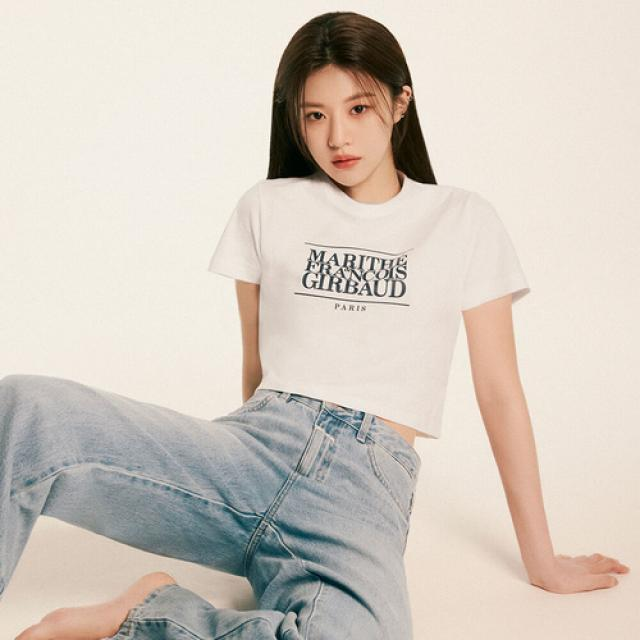Blouse_deep: (209, 172, 536, 437)
